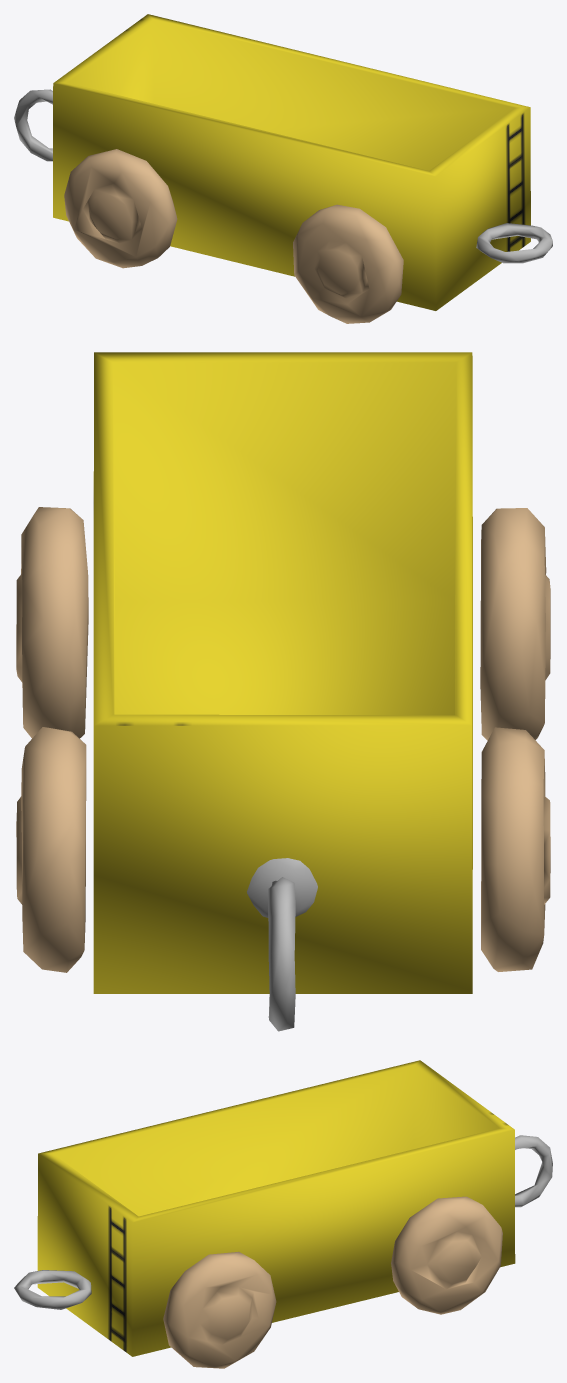
Rendered from yellow.fbx.
3 renders of one model, top to bottom at view 1: azimuth 30°, elevation 25°; view 2: azimuth 150°, elevation 25°; view 3: azimuth 270°, elevation 25°, orthographic. The views are drawn at different scales.
Visible parts, largest first — view 1: vagone7; view 2: vagone7; view 3: vagone7.
Boxes of the visible parts, x1=… form: vagone7: x1=14, y1=14, x2=552, y2=323; vagone7: x1=16, y1=352, x2=550, y2=1031; vagone7: x1=14, y1=1060, x2=552, y2=1368.
Bounding box in the file's own units: 425 × 181 × 565.
3 materials, 1 textured.
